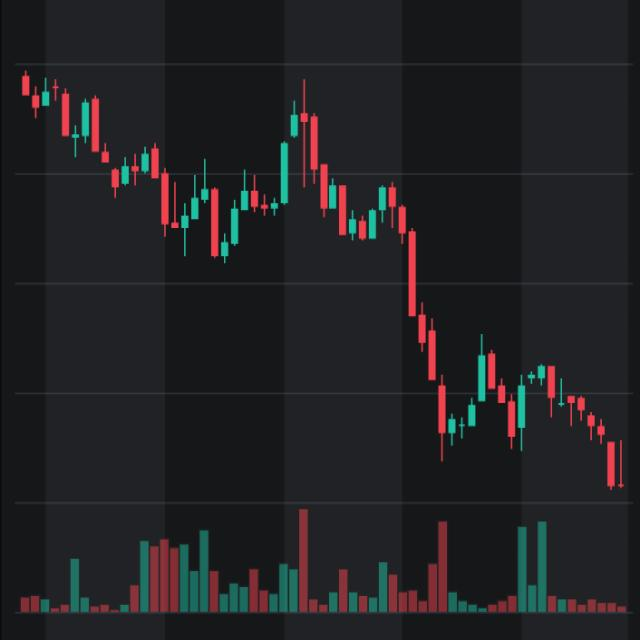Channel-down: (204, 53, 640, 579), (3, 9, 272, 322)
